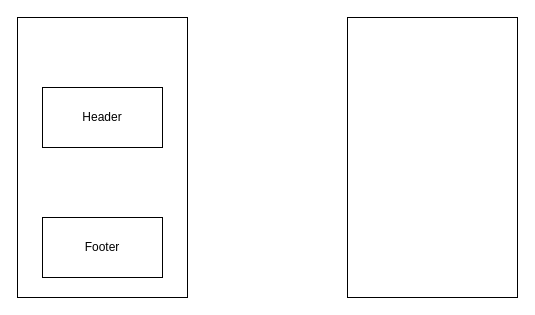
The diagram is 535 pixels wide and 315 high, and some of its shapes have lost their labels. Each missing label, with the box of its shape:
Home App (1.0.0): (16, 16, 188, 298)
mfea App (1.0.0): (346, 16, 518, 298)
